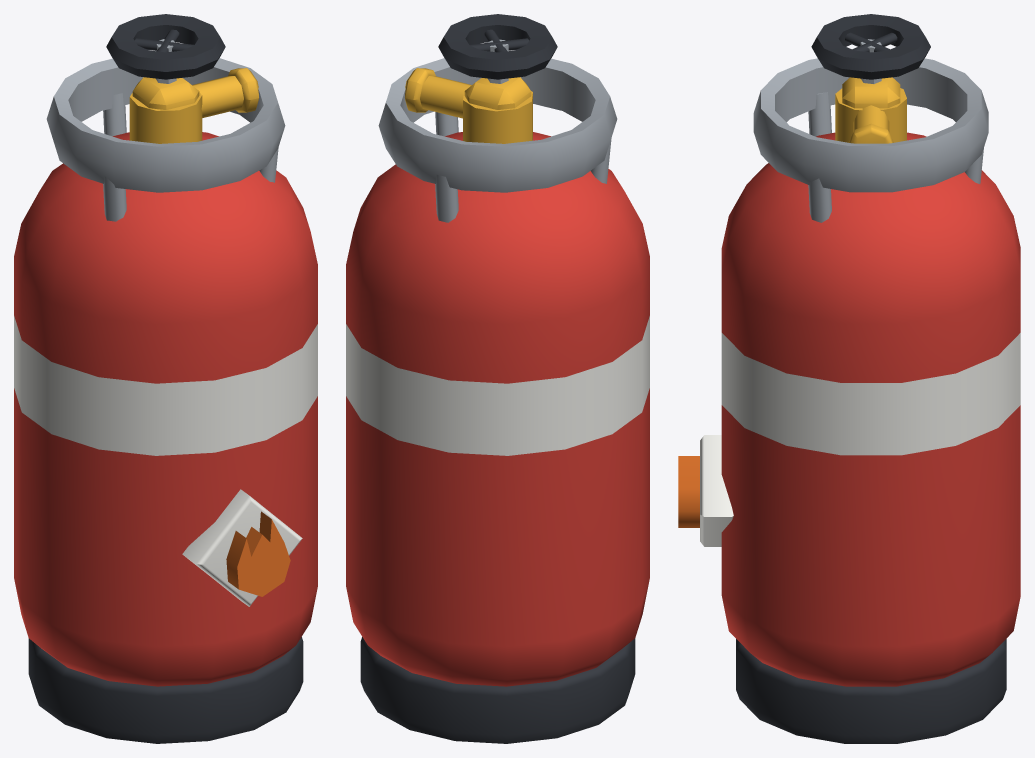
Rendered from Bombona.fbx.
The picture shows the model from 3 angles, left to right: view 1: azimuth 30°, elevation 25°; view 2: azimuth 150°, elevation 25°; view 3: azimuth 270°, elevation 25°; orthographic projection.
Visible parts, largest first — view 1: Bombona; view 2: Bombona; view 3: Bombona.
Part boxes in pixels (x1=…): Bombona: x1=14, y1=14, x2=317, y2=743; Bombona: x1=346, y1=14, x2=649, y2=743; Bombona: x1=678, y1=14, x2=1020, y2=743.
Bounding box in the file's own units: 0.824 × 1.98 × 0.944.
Materials: 1 (1 with a texture image).
